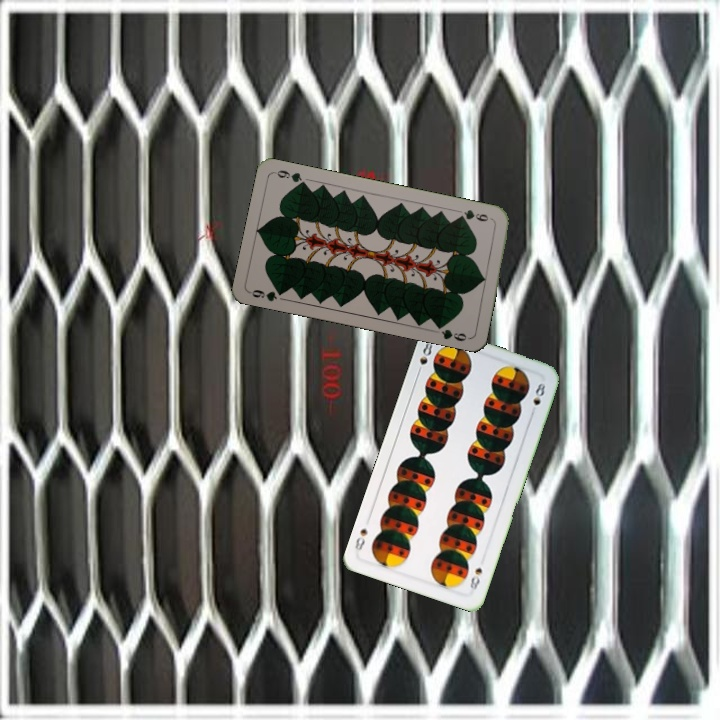G9: (246, 285, 288, 304), (454, 206, 496, 224)
S8: (413, 338, 435, 377), (466, 564, 485, 593)
